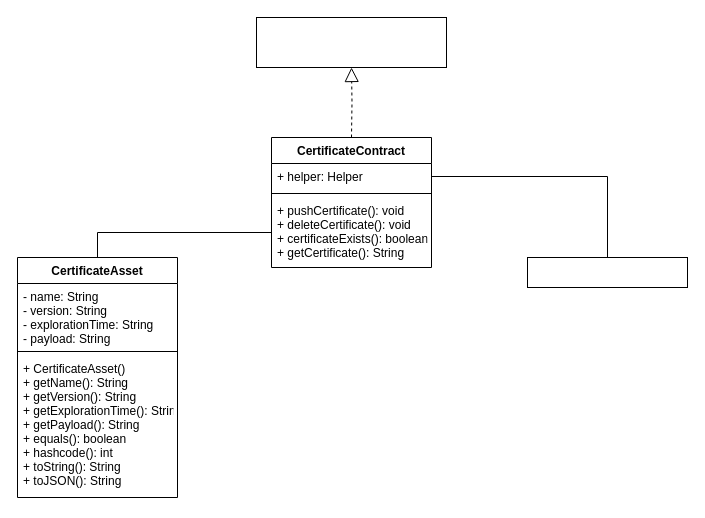
Some shapes in this 705 by 518 pixel diagram are drawn without their labels. Here are the shapes that lost their labels. From the top down, the centre of each, then its label:
At point (351, 42): "<<Interface>> ChaincodeContract".
At point (607, 272): "Helper".
